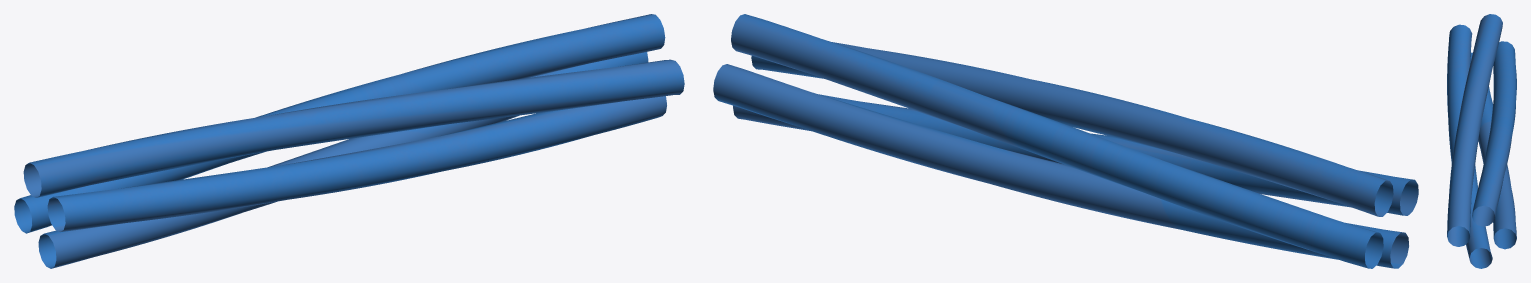
The model's file is 180__Cable.fbx.
3 views of the same model, side by side, from view 1: azimuth 30°, elevation 25°; view 2: azimuth 150°, elevation 25°; view 3: azimuth 270°, elevation 25° (orthographic). The views are drawn at different scales.
Visible parts, largest first — view 1: sweep8; view 2: sweep8; view 3: sweep8.
Part boxes in pixels (<box>): sweep8: <box>14,14,684,268</box>; sweep8: <box>713,14,1418,268</box>; sweep8: <box>1447,14,1516,268</box>.
Size of the model in its own units: 10.08 by 1.54 by 1.54.
1 material, 1 textured.
